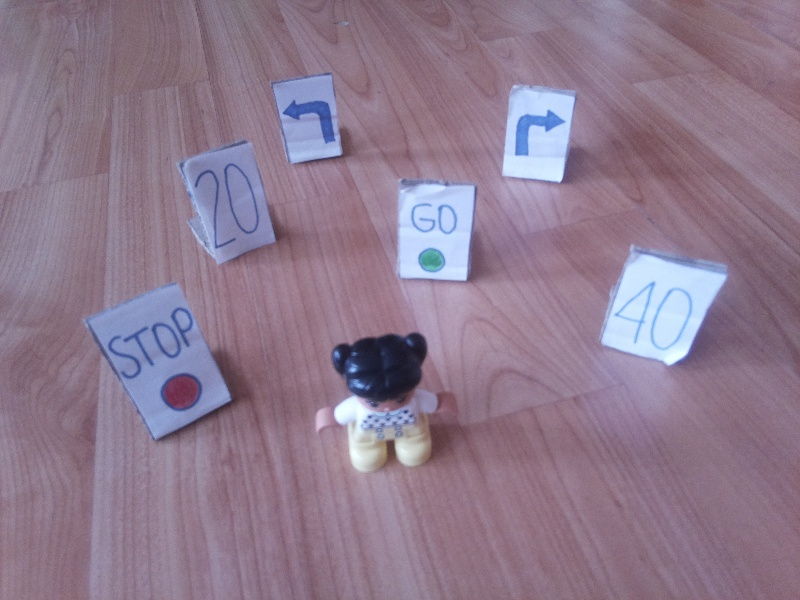20: (194, 159, 271, 247)
40: (618, 269, 694, 362)
go: (404, 200, 462, 275)
person: (313, 330, 461, 471)
stop: (105, 303, 216, 411)
turn left: (281, 94, 344, 148)
turn right: (511, 104, 567, 162)
